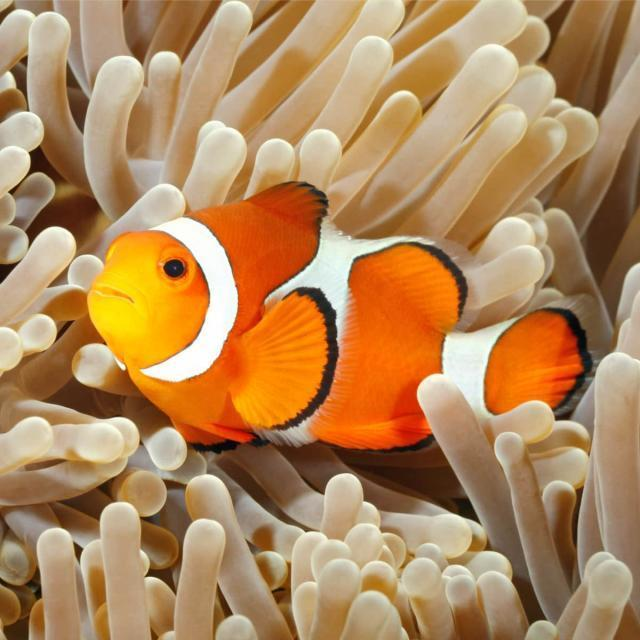ClownFish: (85, 177, 586, 449)
